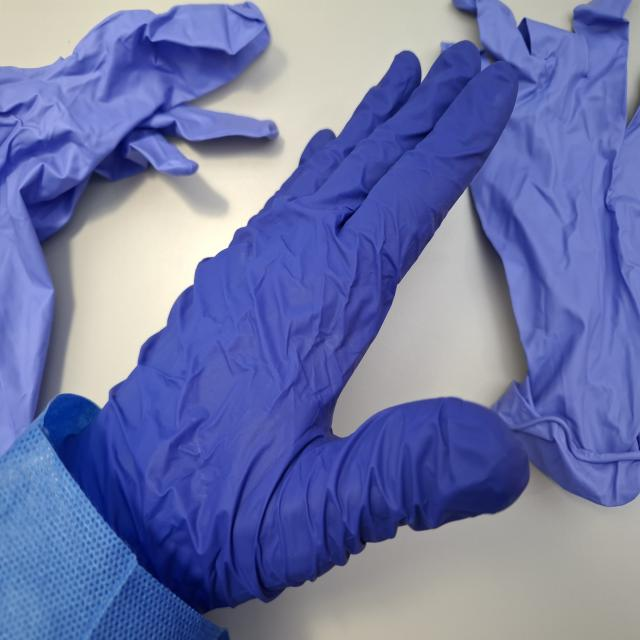glove_on: (63, 35, 534, 618)
